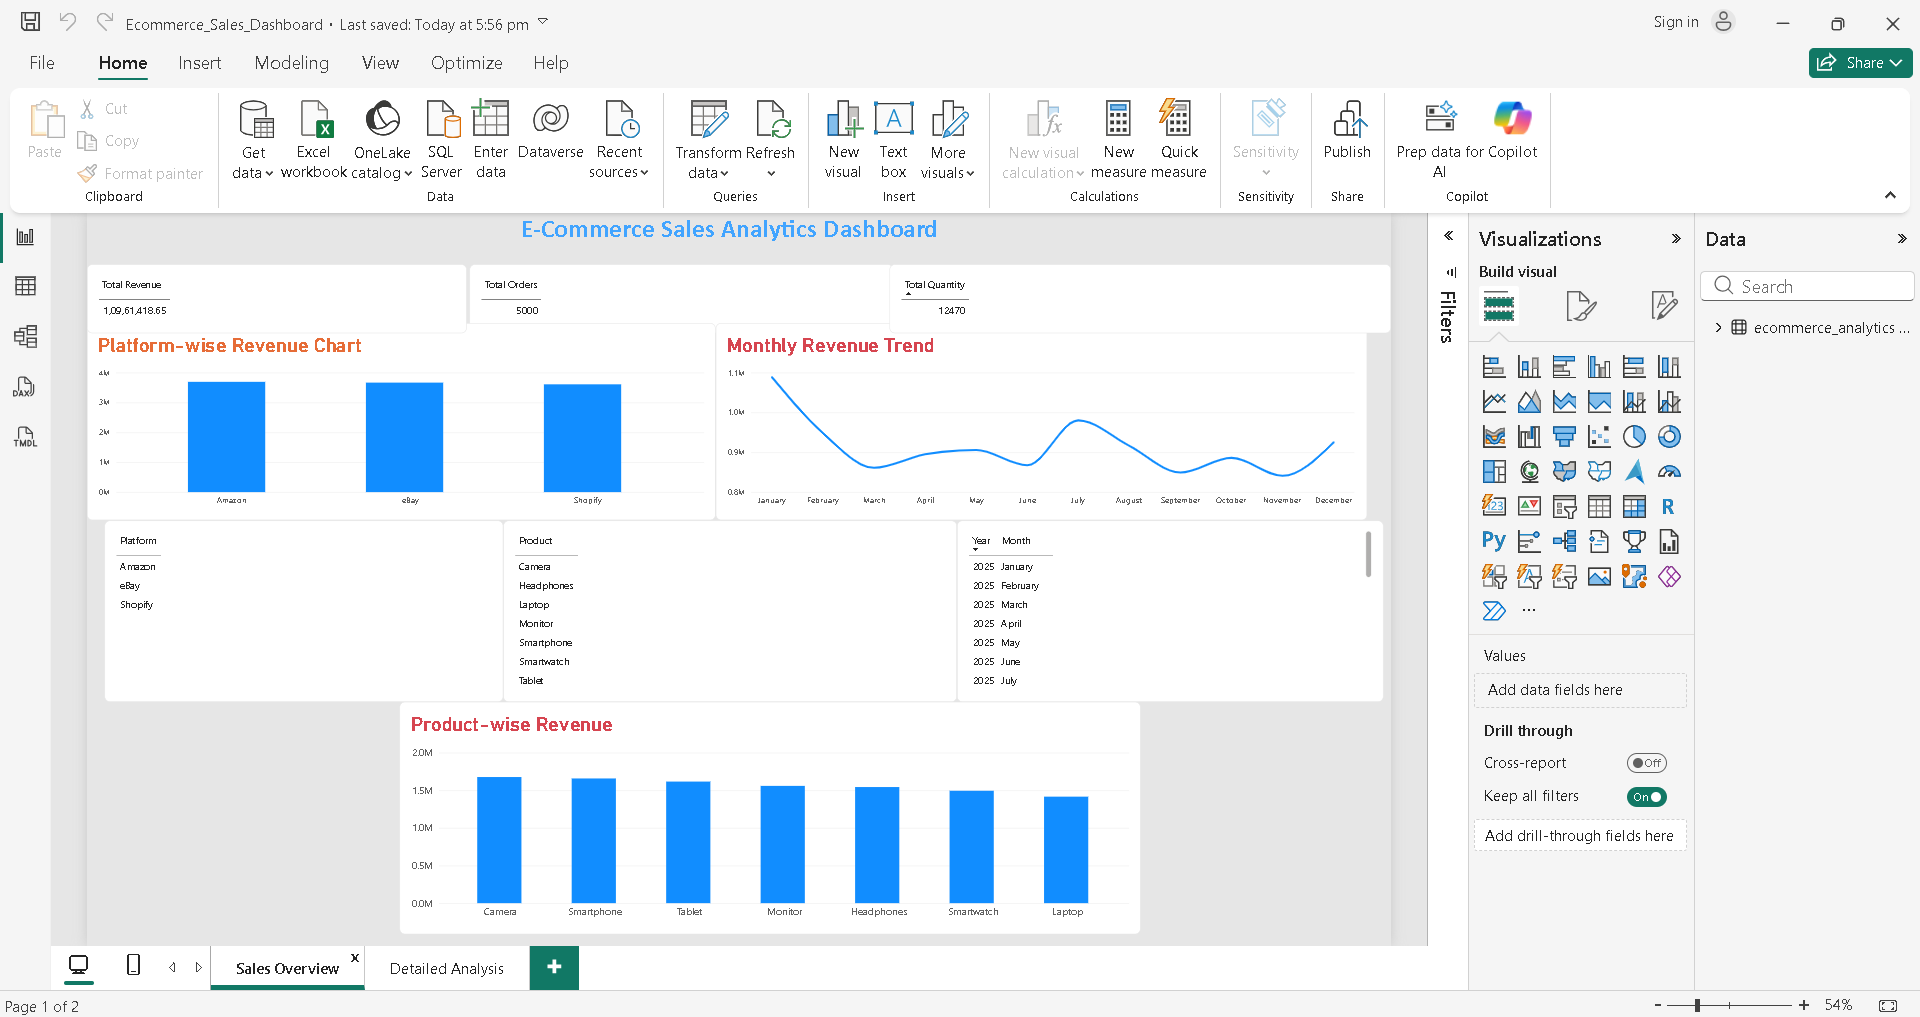

The page's visual inventory and layout, read from the dashboard file:
{"tool":"powerbi","page":{"name":"Sales Overview","canvas":[1920,1080],"ordinal":0},"visuals":[{"type":"tableEx","fields":{"Values":["ecommerce_analytics ecommerce_sales.Order_ID"]},"box":[563.2,75.5,623.9,101.2],"z":1},{"type":"clusteredColumnChart","title":"Platform-wise Revenue Chart","fields":{"Category":["ecommerce_analytics ecommerce_sales.Platform"],"Y":["Sum(ecommerce_analytics ecommerce_sales.Revenue)"]},"box":[0,162,925.8,290.8],"z":4},{"type":"clusteredColumnChart","title":"Product-wise Revenue","fields":{"Category":["ecommerce_analytics ecommerce_sales.Product"],"Y":["Sum(ecommerce_analytics ecommerce_sales.Revenue)"]},"box":[460.1,719.6,1091.4,342.3],"z":5},{"type":"textbox","box":[559.5,0,773,195.1],"z":12},{"type":"lineChart","title":"Monthly Revenue Trend","fields":{"Category":["ecommerce_analytics ecommerce_sales.Order_Date.Variation.Date Hierarchy.Month"],"Y":["Sum(ecommerce_analytics ecommerce_sales.Revenue)"]},"box":[925.8,162,993.9,290.8],"z":14},{"type":"tableEx","fields":{"Values":["Sum(ecommerce_analytics ecommerce_sales.Quantity)"]},"box":[1181.6,75.5,738,101.2],"z":15},{"type":"tableEx","fields":{"Values":["Sum(ecommerce_analytics ecommerce_sales.Revenue)"]},"box":[0,75.5,559.5,101.2],"z":16},{"type":"tableEx","fields":{"Values":["ecommerce_analytics ecommerce_sales.Platform"]},"box":[25.8,452.8,587.1,266.9],"z":17},{"type":"tableEx","fields":{"Values":["ecommerce_analytics ecommerce_sales.Product"]},"box":[612.9,452.8,668.1,266.9],"z":18},{"type":"tableEx","fields":{"Values":["ecommerce_analytics ecommerce_sales.Order_Date.Variation.Date Hierarchy.Year","ecommerce_analytics ecommerce_sales.Order_Date.Variation.Date Hierarchy.Month"]},"box":[1281,452.8,638.7,266.9],"z":19}]}

Visuals, with their boxes on the page's 1920x1080 design canvas (x1, y1, x2, y2). These are canvas units, not pixel positions in the 1920x1017 screenshot, which may show the page scaled, cropped or inside an application window:
tableEx - ecommerce_analytics ecommerce_sales.Order_ID: crop(563, 76, 1187, 177)
"Platform-wise Revenue Chart" clusteredColumnChart: crop(0, 162, 926, 453)
"Product-wise Revenue" clusteredColumnChart: crop(460, 720, 1552, 1062)
textbox: crop(560, 0, 1332, 195)
"Monthly Revenue Trend" lineChart: crop(926, 162, 1920, 453)
tableEx - Sum(ecommerce_analytics ecommerce_sales.Quantity): crop(1182, 76, 1920, 177)
tableEx - Sum(ecommerce_analytics ecommerce_sales.Revenue): crop(0, 76, 560, 177)
tableEx - ecommerce_analytics ecommerce_sales.Platform: crop(26, 453, 613, 720)
tableEx - ecommerce_analytics ecommerce_sales.Product: crop(613, 453, 1281, 720)
tableEx - ecommerce_analytics ecommerce_sales.Order_Date.Variation.Date Hierarchy.Year x ecommerce_analytics ecommerce_sales.Order_Date.Variation.Date Hierarchy.Month: crop(1281, 453, 1920, 720)
